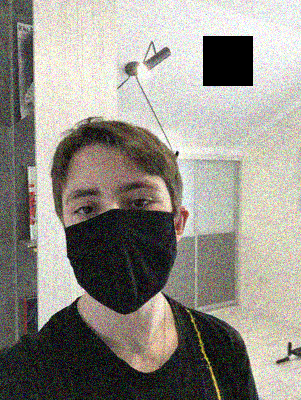with_mask: (62, 165, 182, 315)
